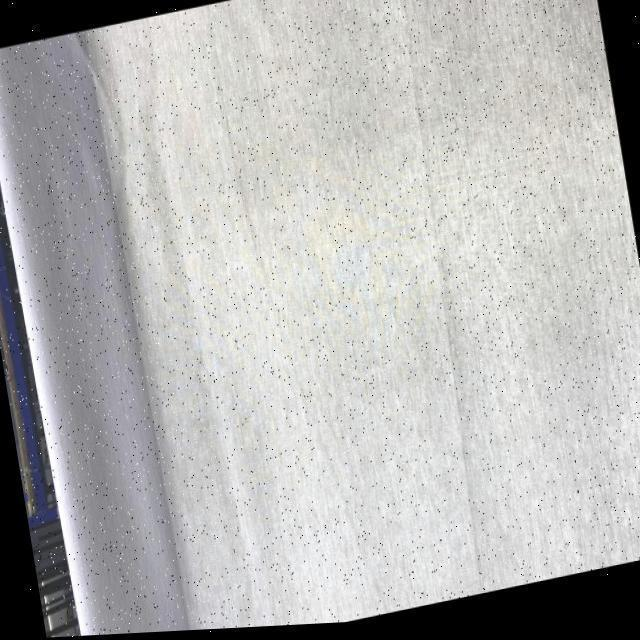pulled_or_thick_thread: (403, 13, 482, 590)
